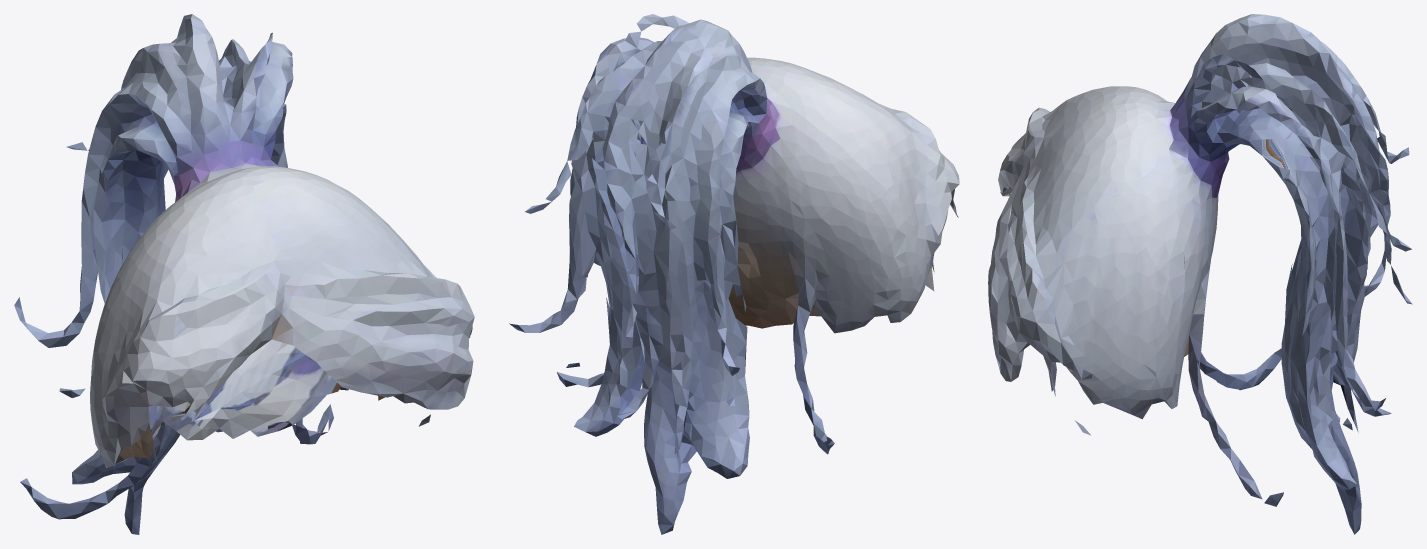
The model's file is hairstyle_050.glb.
The picture shows the model from 3 angles, left to right: view 1: azimuth 30°, elevation 25°; view 2: azimuth 150°, elevation 25°; view 3: azimuth 270°, elevation 25°; orthographic projection. The views are drawn at different scales.
Parts seen in each view (by area): view 1: geometry_0_050; view 2: geometry_0_050; view 3: geometry_0_050.
Part boxes in pixels (x1,y1,x2,y2): geometry_0_050: (14,14,474,534); geometry_0_050: (509,14,959,534); geometry_0_050: (988,14,1412,534).
Bounding box in the file's own units: 0.9939 × 1.38 × 1.02.
1 material, 1 textured.
